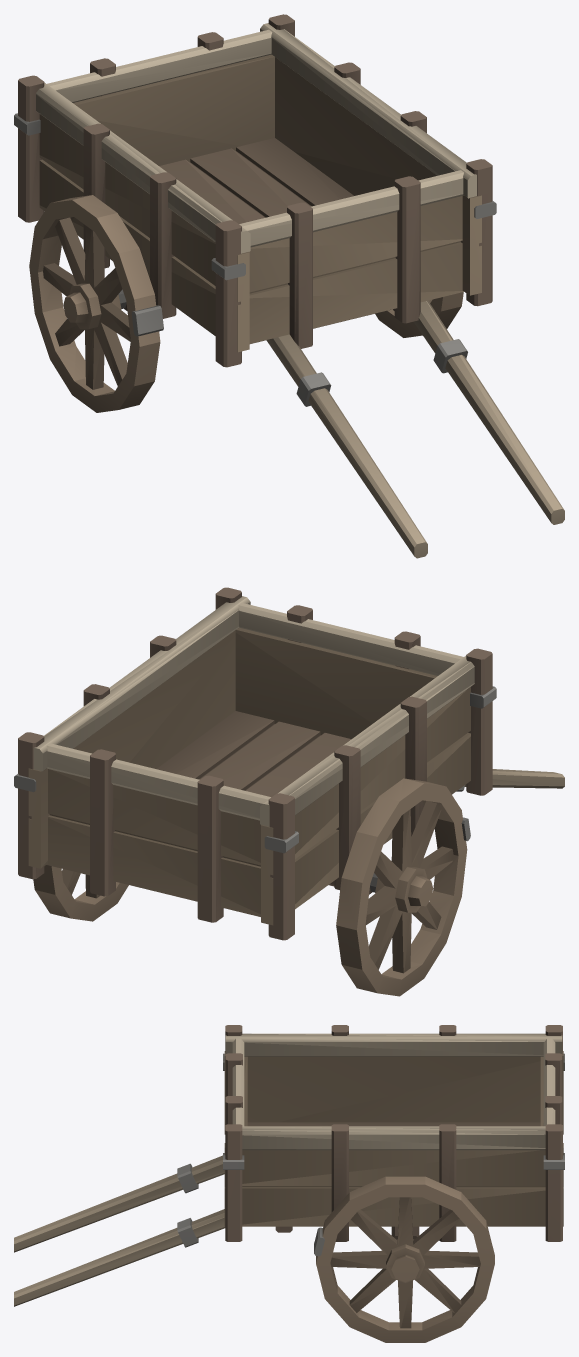
Rendered from cart.glb.
3 renders of one model, top to bottom at view 1: azimuth 30°, elevation 25°; view 2: azimuth 150°, elevation 25°; view 3: azimuth 270°, elevation 25°, orthographic. The views are drawn at different scales.
Parts seen in each view (by area): view 1: cart; view 2: cart; view 3: cart.
Boxes of the visible parts, x1,y1,x2,y2 form: cart: (14, 14, 564, 558); cart: (14, 587, 564, 996); cart: (14, 1025, 564, 1342).
Size of the model in its own units: 1.89 by 1.25 by 3.13.
